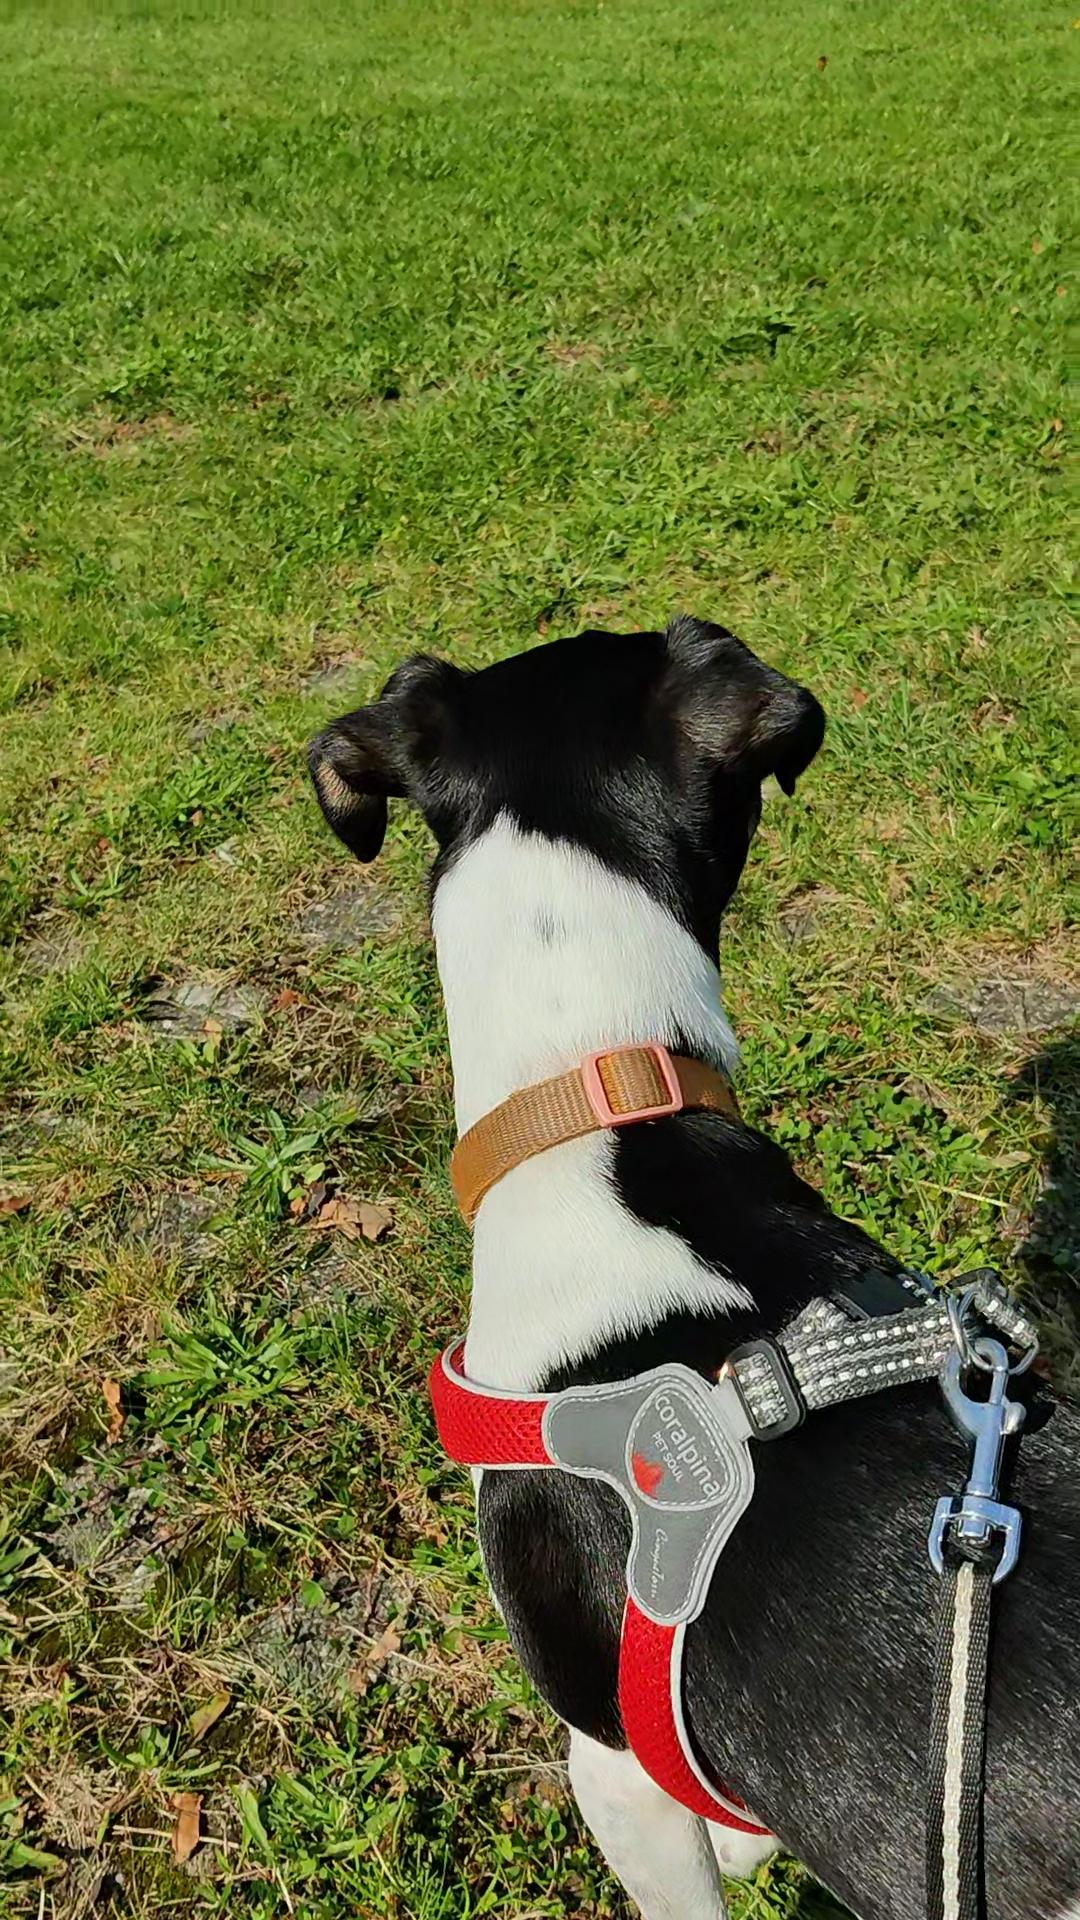Dog: (252, 556, 1079, 1919)
